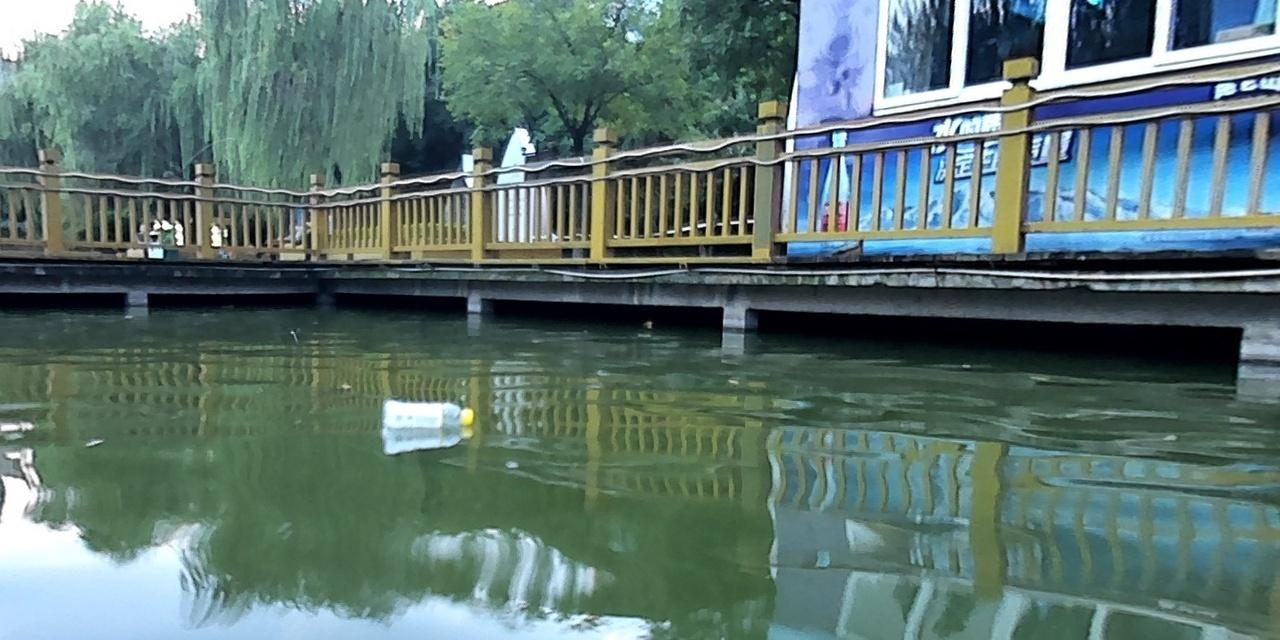bottle: (380, 396, 471, 427)
